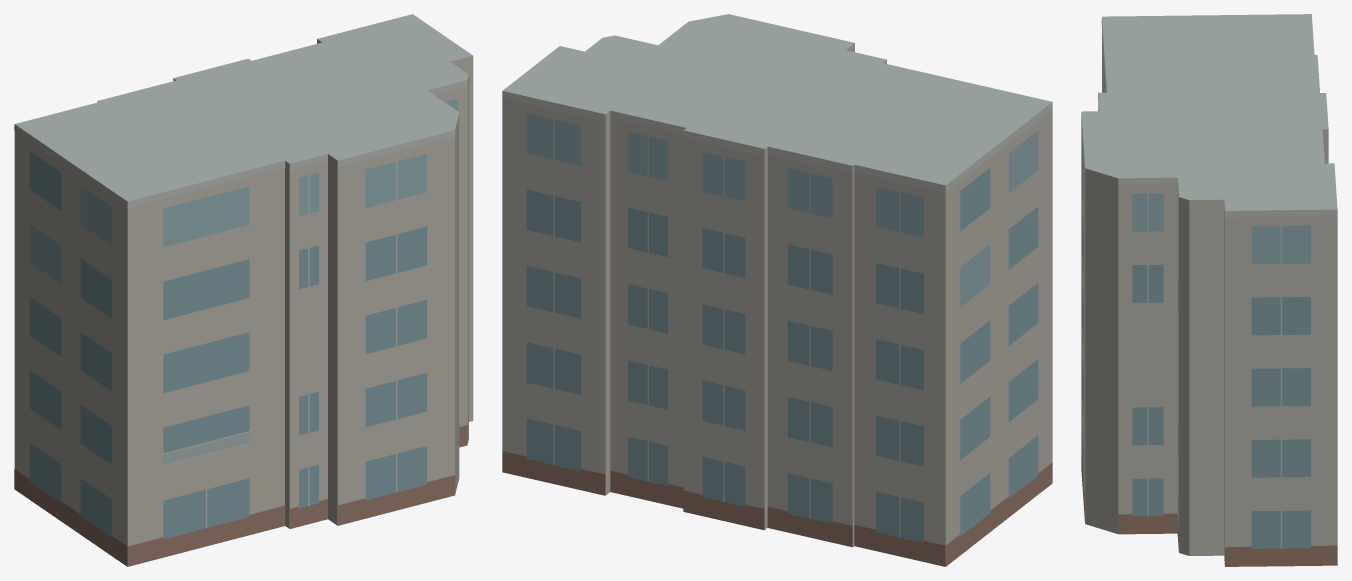
File: survey-upis-32622163.glb
3 renders of one model, left to right at view 1: azimuth 30°, elevation 25°; view 2: azimuth 150°, elevation 25°; view 3: azimuth 270°, elevation 25°, orthographic. The views are drawn at different scales.
Parts seen in each view (by area): view 1: survey-upis-32622163.tmp; view 2: survey-upis-32622163.tmp; view 3: survey-upis-32622163.tmp.
Part boxes in pixels (x1,y1,x2,y2): survey-upis-32622163.tmp: [14, 14, 473, 566]; survey-upis-32622163.tmp: [502, 14, 1052, 566]; survey-upis-32622163.tmp: [1081, 14, 1337, 566].
Bounding box in the file's own units: 15.39 × 12.96 × 8.47.
